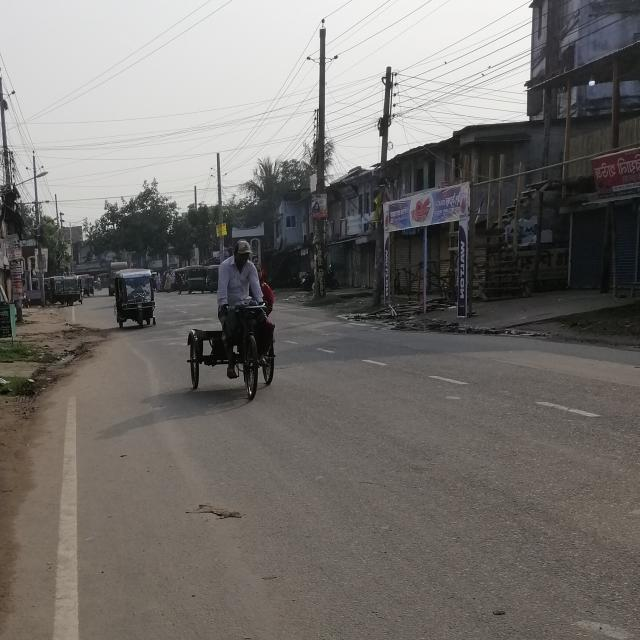Van: (176, 318, 281, 401)
